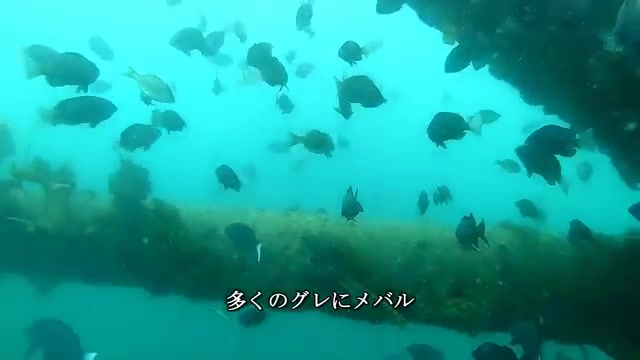smallfish: (507, 138, 579, 201), (26, 45, 104, 86), (413, 112, 488, 152), (326, 68, 391, 114), (120, 64, 179, 112), (44, 95, 117, 133), (167, 16, 232, 58), (333, 188, 388, 235), (279, 130, 347, 168), (215, 213, 268, 260), (441, 32, 490, 81), (446, 212, 499, 254), (249, 39, 288, 91), (112, 120, 167, 156), (406, 180, 456, 216), (331, 35, 381, 70), (149, 105, 196, 142), (287, 1, 332, 36), (560, 214, 604, 246), (208, 159, 249, 191), (515, 198, 546, 227), (268, 91, 297, 118), (494, 153, 525, 177)
